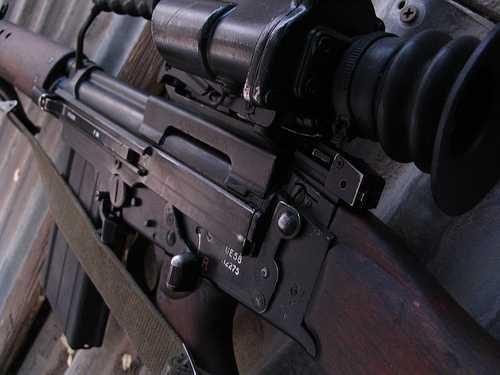heavyweapon: (0, 0, 494, 375)
